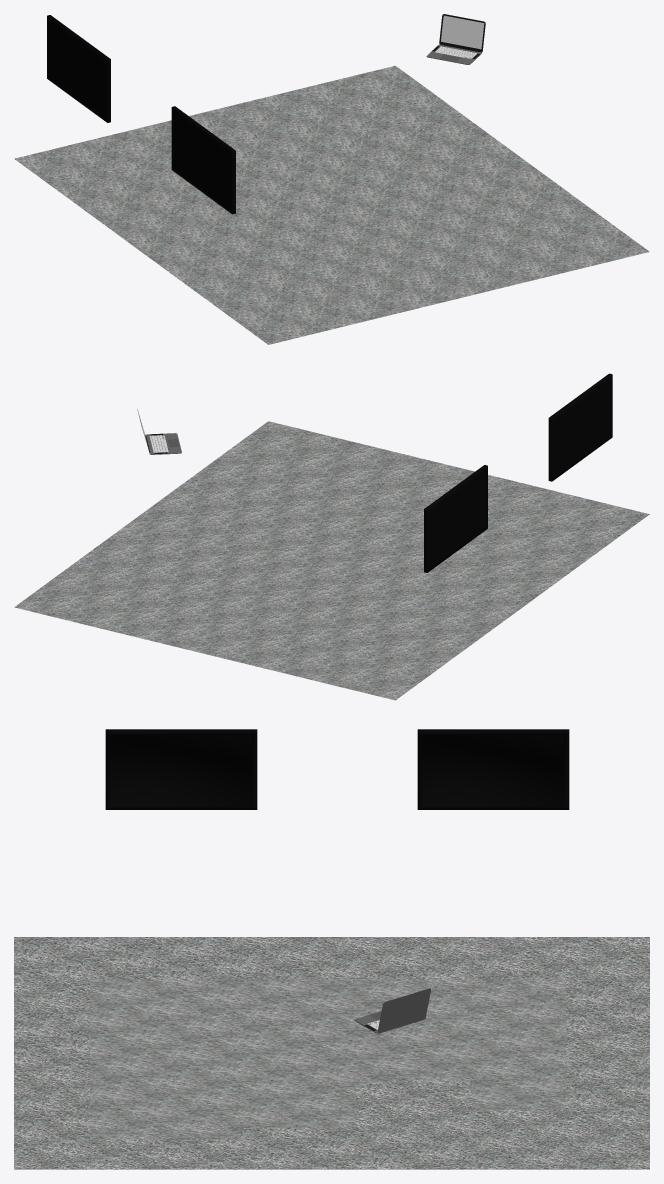
File: navMesh.glb
3 renders of one model, top to bottom at view 1: azimuth 30°, elevation 25°; view 2: azimuth 150°, elevation 25°; view 3: azimuth 270°, elevation 25°, orthographic. The views are drawn at different scales.
Parts seen in each view (by area): view 1: floor, screen2, screen1, computer; view 2: floor, screen2, screen1, computer; view 3: floor, screen1, screen2, computer.
Part boxes in pixels (left/top/right/bottom): floor: left=14, top=65, right=649, bottom=344; screen2: left=171, top=106, right=235, bottom=214; screen1: left=47, top=15, right=110, bottom=122; computer: left=426, top=14, right=485, bottom=64; floor: left=14, top=421, right=649, bottom=700; screen2: left=548, top=373, right=612, bottom=481; screen1: left=424, top=465, right=487, bottom=572; computer: left=137, top=409, right=181, bottom=454; floor: left=14, top=937, right=649, bottom=1169; screen1: left=417, top=729, right=569, bottom=809; screen2: left=105, top=729, right=257, bottom=809; computer: left=354, top=988, right=430, bottom=1033.
Size of the model in its own units: 41.14 by 17.17 by 47.52.
Materials: 15 (2 with a texture image).
